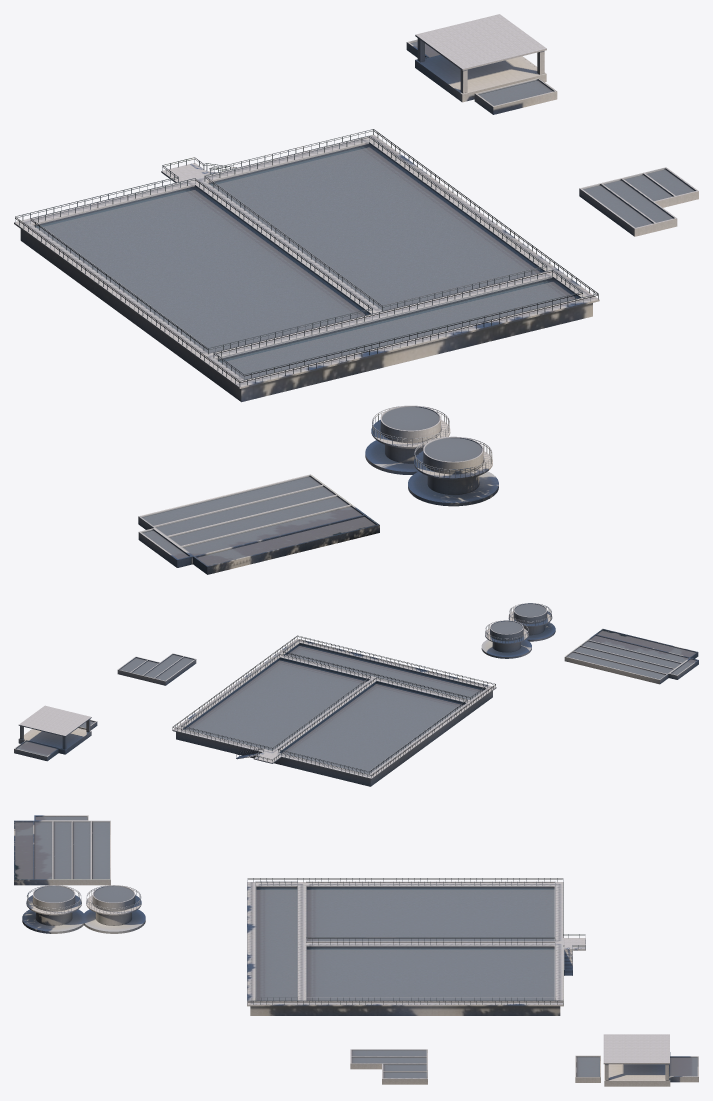
File: 处理池.4057acde.glb
3 renders of one model, top to bottom at view 1: azimuth 30°, elevation 25°; view 2: azimuth 150°, elevation 25°; view 3: azimuth 270°, elevation 25°, orthographic. The views are drawn at different scales.
Parts seen in each view (by area): view 1: sc1998, sc2000, sc2134, sc2132, sc1999, sc2001, sc2153, sc1995, sc1994, sc2080, sc2151, sc2086 (+3 smaller); view 2: sc1998, sc2000, sc2134, sc2132, sc1999, sc2001, sc1995, sc1994, sc2153, sc2080, sc2151, sc2086 (+3 smaller); view 3: sc1998, sc2000, sc2134, sc1999, sc2132, sc2001, sc2153, sc2080, sc1995, sc2086, sc2085, sc2151 (+3 smaller).
Boxes of the visible parts, box(x1,y1,x2,y2) form: sc1998: box(36, 145, 579, 379); sc2000: box(14, 135, 599, 388); sc2134: box(142, 42, 694, 565); sc2132: box(138, 39, 698, 574); sc1999: box(20, 144, 592, 402); sc2001: box(15, 129, 598, 381); sc2153: box(415, 14, 546, 70); sc1995: box(15, 130, 598, 382); sc1994: box(15, 129, 598, 386); sc2080: box(365, 440, 498, 506); sc2151: box(421, 55, 539, 91); sc2086: box(382, 407, 482, 461); sc1998: box(183, 644, 484, 774); sc2000: box(172, 638, 496, 779); sc2134: box(16, 630, 696, 756); sc2132: box(14, 629, 698, 761); sc1999: box(176, 644, 492, 786); sc2001: box(173, 635, 495, 775); sc1995: box(173, 636, 495, 775); sc1994: box(172, 636, 495, 777); sc2153: box(18, 705, 91, 736); sc2080: box(481, 622, 555, 658); sc2151: box(20, 728, 88, 749); sc2086: box(490, 604, 546, 634); sc1998: box(256, 888, 554, 1000); sc2000: box(247, 882, 563, 1006); sc2134: box(15, 817, 697, 1079); sc1999: box(250, 887, 560, 1015); sc2132: box(14, 815, 698, 1086); sc2001: box(247, 878, 585, 1001); sc2153: box(603, 1034, 669, 1064); sc2080: box(22, 909, 145, 933); sc1995: box(248, 879, 584, 1002); sc2086: box(34, 886, 134, 902); sc2085: box(33, 885, 135, 911); sc2151: box(608, 1064, 665, 1080).
Bounding box in the file's own units: 102 × 4.71 × 111.
23 materials, 23 textured.
